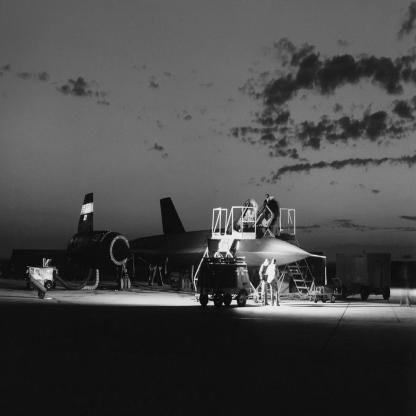SR71: (11, 193, 327, 292)
